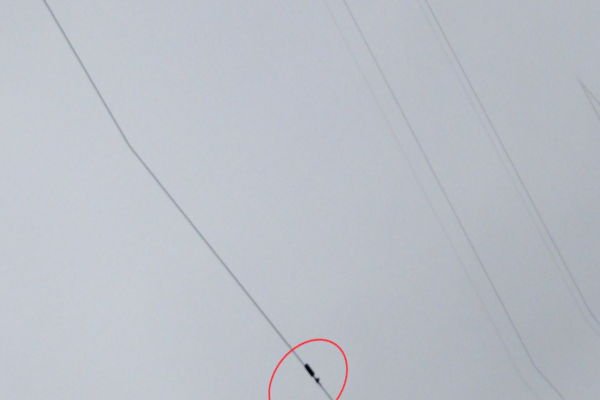damper_defect: (302, 361, 323, 387)
